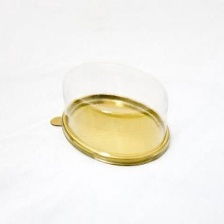plastic_box: (39, 54, 189, 173)
